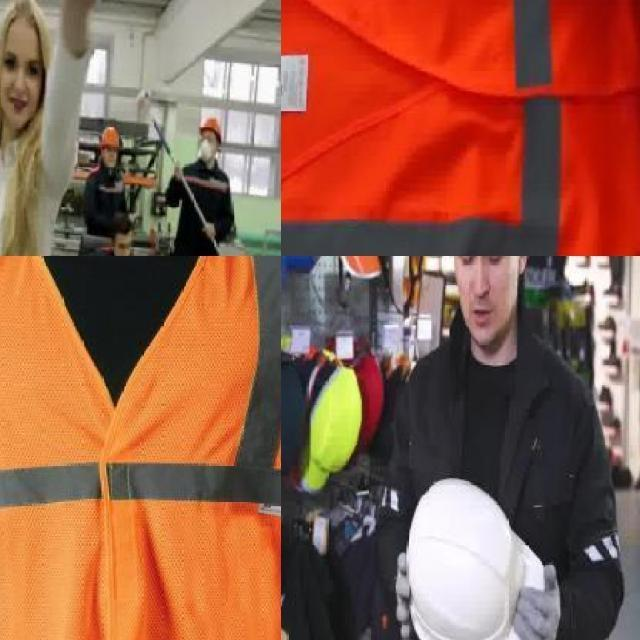apron: (516, 560, 562, 640), (393, 550, 411, 640)
